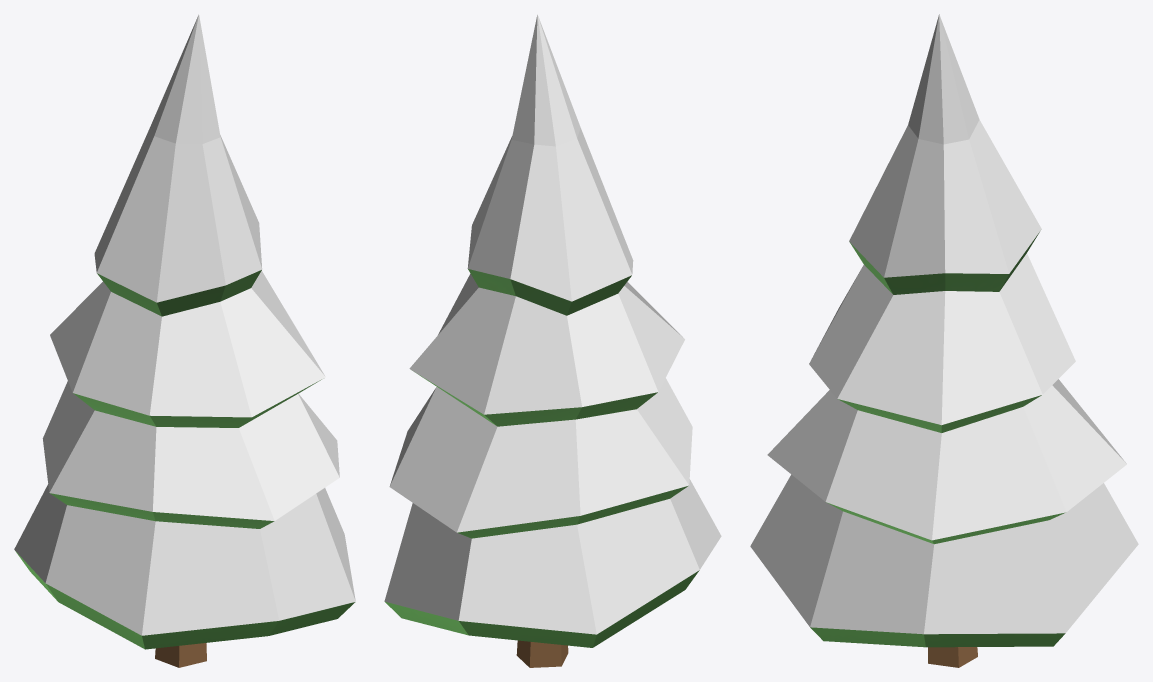
The model's file is Fir_Tree_m_Snow_08.fbx.
The picture shows the model from 3 angles, left to right: view 1: azimuth 30°, elevation 25°; view 2: azimuth 150°, elevation 25°; view 3: azimuth 270°, elevation 25°; orthographic projection.
Parts seen in each view (by area): view 1: Fir_Tree_m_Snow_08; view 2: Fir_Tree_m_Snow_08; view 3: Fir_Tree_m_Snow_08.
Part boxes in pixels (left/top/right/bottom): Fir_Tree_m_Snow_08: left=14, top=14, right=355, bottom=667; Fir_Tree_m_Snow_08: left=384, top=14, right=721, bottom=667; Fir_Tree_m_Snow_08: left=750, top=14, right=1138, bottom=667.
Bounding box in the file's own units: 374 × 776 × 421.
